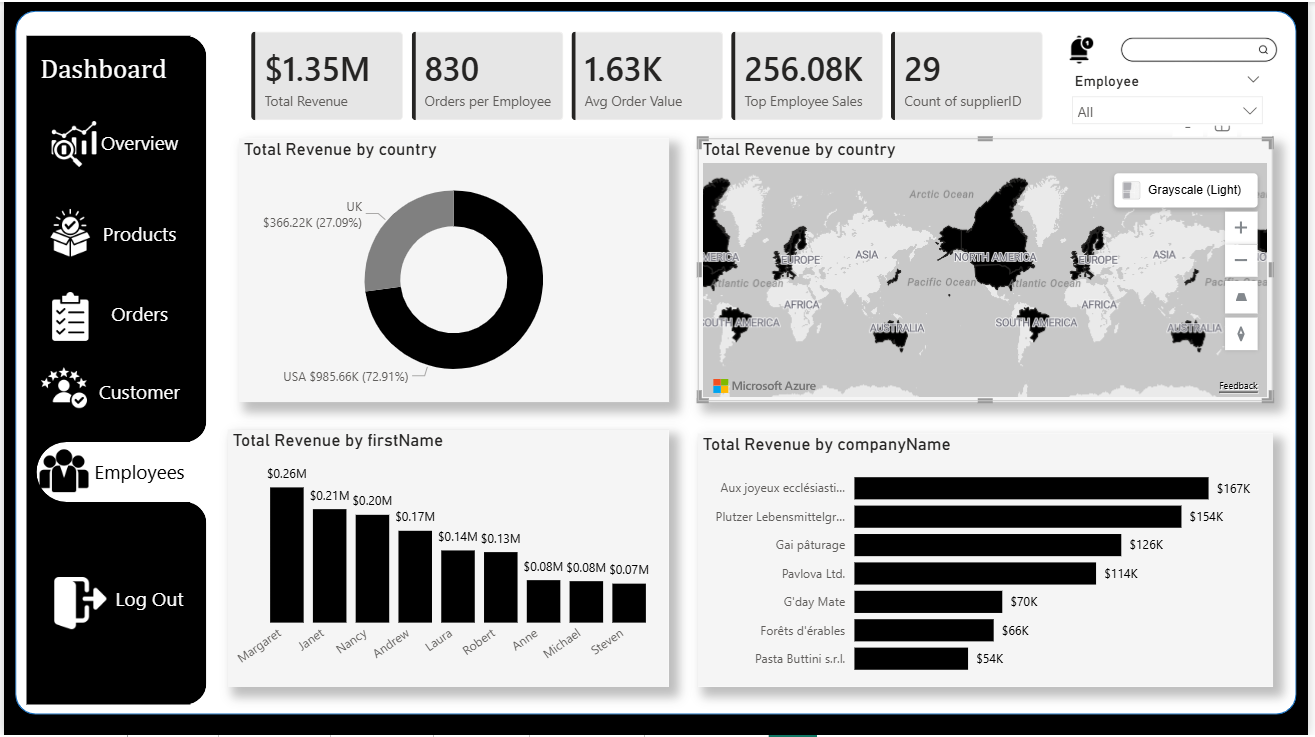

What the dashboard file says about the page in this screenshot:
{"tool":"powerbi","page":{"name":"Employees","canvas":[1280,720],"ordinal":5},"visuals":[{"type":"shape","box":[11,8.6,1257.7,690.8],"z":0},{"type":"shape","box":[22.1,33.1,160.7,656.4],"z":1000},{"type":"shape","box":[115.3,33.1,83.4,398.8],"z":2000},{"type":"shape","box":[31.9,431.9,300.6,58.9],"z":3000},{"type":"shape","box":[115.3,490.8,83.4,198.8],"z":4000},{"type":"image","box":[1066.3,0,213.5,93.3],"z":5000},{"type":"image","box":[1038,33.1,39.3,27],"z":6000},{"type":"cardVisual","fields":{"Data":["DaxM.Total Revenue","DaxE.Orders per Employee","DaxE.Avg Order Value per Employee","DaxE.Top Employee Sales","CountNonNull(Supplierdim.supplierID)"]},"box":[225.8,12.3,812.3,121.5],"z":7000},{"type":"donutChart","fields":{"Category":["Employeesdim.country"],"Y":["DaxM.Total Revenue"]},"box":[230.7,133.7,422.1,258.9],"z":8000},{"type":"clusteredBarChart","fields":{"Category":["Supplierdim.companyName"],"Y":["DaxM.Total Revenue"]},"box":[681,423.3,564.4,249.1],"z":9000},{"type":"columnChart","fields":{"Category":["Employeesdim.firstName"],"Y":["DaxM.Total Revenue"]},"box":[219.6,419.6,433.1,252.8],"z":10000},{"type":"azureMap","fields":{"Category":["Supplierdim.country"]},"box":[681,133.7,564.4,258.9],"z":11000},{"type":"image","box":[24.5,433.1,68.7,47.9],"z":12000},{"type":"actionButton","box":[83.4,115.3,99.4,44.2],"z":13000},{"type":"actionButton","box":[83.4,206.1,99.4,40.5],"z":14000},{"type":"actionButton","box":[83.4,284.3,99.4,40.5],"z":15000},{"type":"actionButton","box":[83.4,362.4,99.4,40.5],"z":16000},{"type":"actionButton","box":[83.4,440.5,99.4,40.5],"z":17000},{"type":"image","box":[34.4,115.3,68.7,47.9],"z":18000},{"type":"image","box":[31.3,202.5,68.7,47.9],"z":19000},{"type":"image","box":[30.7,284.7,68.7,47.9],"z":20000},{"type":"image","box":[25.2,354.6,68.7,47.9],"z":21000},{"type":"slicer","fields":{"Values":["Employeesdim.firstName"]},"box":[1038,63.8,207.4,57.7],"z":22000},{"type":"textbox","box":[30.7,46.6,152.1,46.6],"z":23000},{"type":"image","box":[42.9,564.4,63.8,51.5],"z":24000},{"type":"actionButton","box":[93.3,564.4,99.4,40.5],"z":25000}]}

Visuals, with their boxes in screenshot pixels (x1, y1, x2, y2), scaled from the page's 1280x720 canvas onto the 1315x737 screenshot:
shape: locate(11, 9, 1303, 716)
shape: locate(23, 34, 188, 706)
shape: locate(118, 34, 204, 442)
shape: locate(33, 442, 342, 502)
shape: locate(118, 502, 204, 706)
image: locate(1095, 0, 1314, 96)
image: locate(1066, 34, 1107, 62)
cardVisual - DaxM.Total Revenue x DaxE.Orders per Employee: locate(232, 13, 1066, 137)
donutChart - Employeesdim.country x DaxM.Total Revenue: locate(237, 137, 671, 402)
clusteredBarChart - Supplierdim.companyName x DaxM.Total Revenue: locate(700, 433, 1279, 688)
columnChart - Employeesdim.firstName x DaxM.Total Revenue: locate(226, 430, 671, 688)
azureMap - Supplierdim.country: locate(700, 137, 1279, 402)
image: locate(25, 443, 96, 492)
actionButton: locate(86, 118, 188, 163)
actionButton: locate(86, 211, 188, 252)
actionButton: locate(86, 291, 188, 332)
actionButton: locate(86, 371, 188, 412)
actionButton: locate(86, 451, 188, 492)
image: locate(35, 118, 106, 167)
image: locate(32, 207, 103, 256)
image: locate(32, 291, 102, 340)
image: locate(26, 363, 96, 412)
slicer - Employeesdim.firstName: locate(1066, 65, 1279, 124)
textbox: locate(32, 48, 188, 95)
image: locate(44, 578, 110, 630)
actionButton: locate(96, 578, 198, 619)
